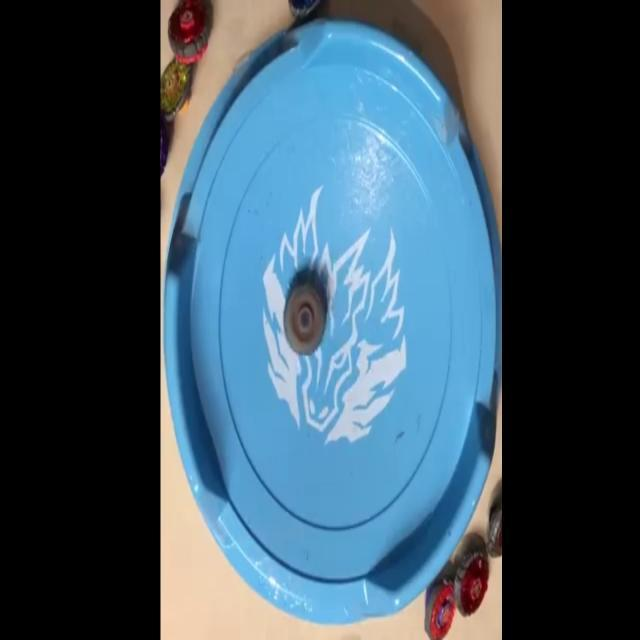Beyblade: (284, 284, 326, 354), (168, 0, 209, 63), (455, 553, 490, 618), (160, 57, 192, 121), (424, 579, 456, 640)
